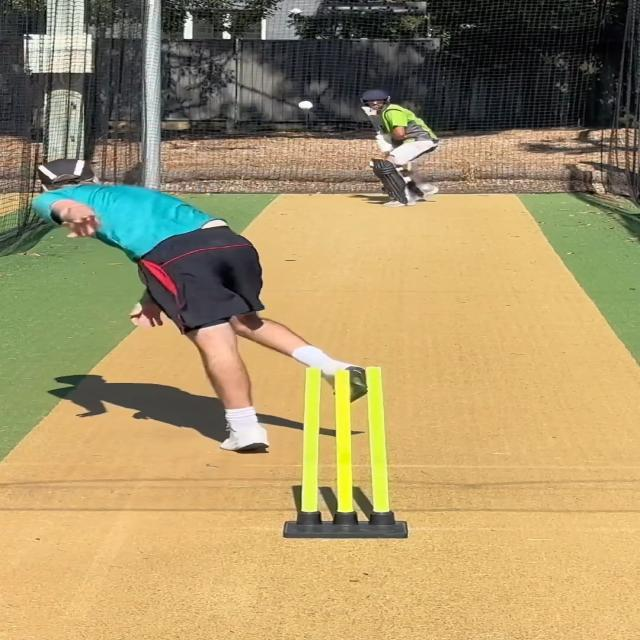ball: (297, 100, 314, 111)
stump: (283, 366, 409, 540)
